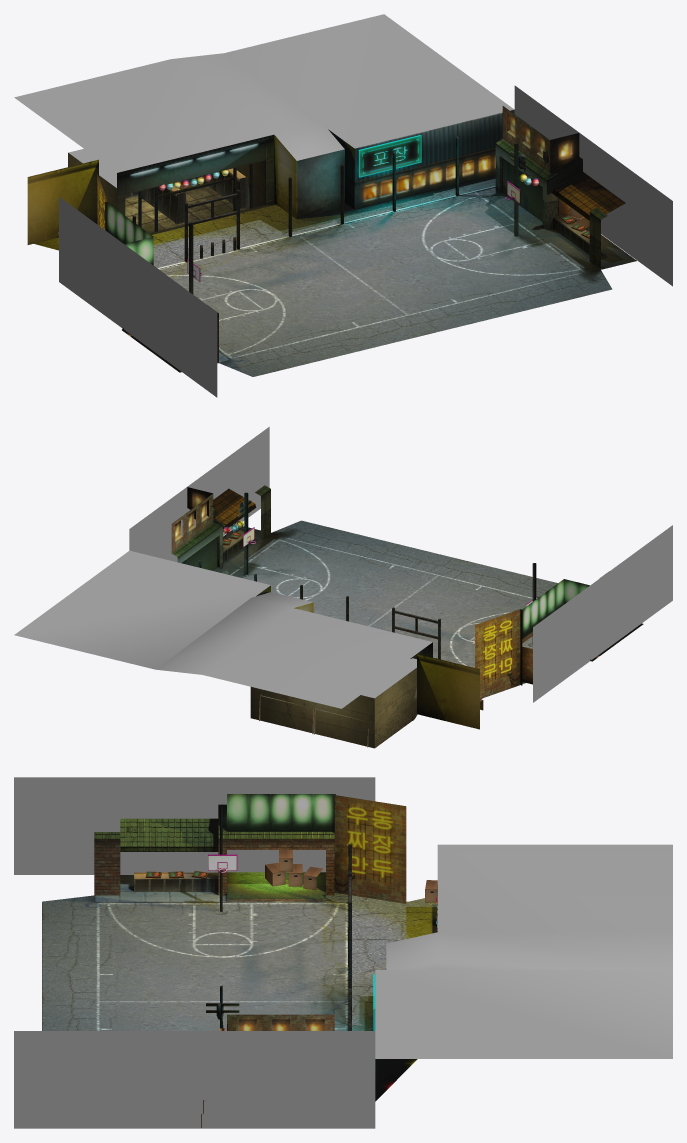
Rendered from court_korean_mesh.fbx.
The picture shows the model from 3 angles, top to bottom: view 1: azimuth 30°, elevation 25°; view 2: azimuth 150°, elevation 25°; view 3: azimuth 270°, elevation 25°; orthographic projection. The views are drawn at different scales.
Visible parts, largest first — view 1: court_korean_mesh; view 2: court_korean_mesh; view 3: court_korean_mesh.
Part boxes in pixels (x1,y1,x2,y2): court_korean_mesh: [14, 14, 672, 397]; court_korean_mesh: [14, 426, 672, 748]; court_korean_mesh: [14, 777, 672, 1128].
Bounding box in the file's own units: 124 × 27.62 × 135.
